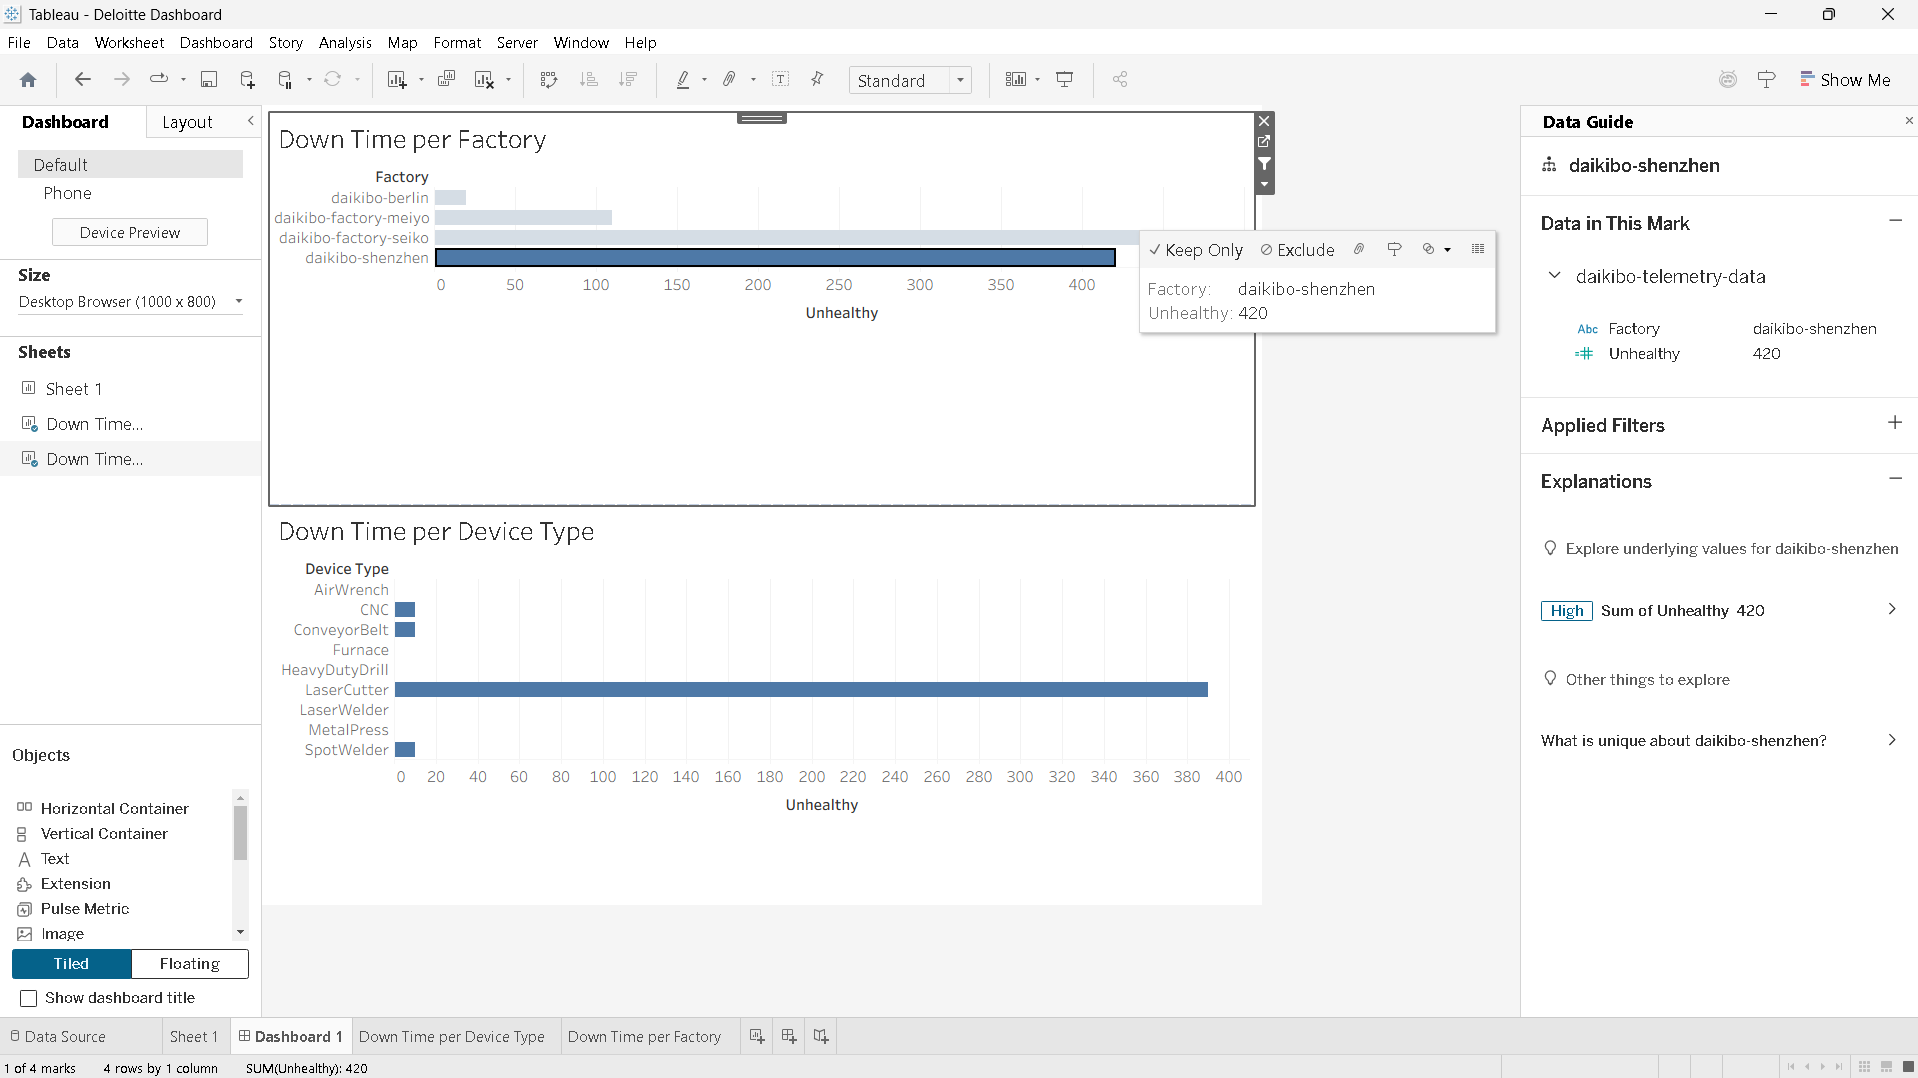

This screenshot's page, from the dashboard's own definition file:
{"tool":"tableau","page":{"name":"Dashboard 1","canvas":[1000,800],"ordinal":0},"visuals":[{"type":"worksheet","title":"Down Time per Factory","mark":"Automatic","rows":["factory"],"cols":["Calculation_1768032180019201"],"box":[8,8,984,392]},{"type":"worksheet","title":"Down Time per Device Type","mark":"Automatic","rows":["deviceType"],"cols":["Calculation_1768032180019201"],"box":[8,400,984,392]}]}

Visuals, with their boxes on the page's 1000x800 design canvas (x1, y1, x2, y2). These are canvas units, not pixel positions in the 1918x1078 screenshot, which may show the page scaled, cropped or inside an application window:
"Down Time per Factory" worksheet: crop(8, 8, 992, 400)
"Down Time per Device Type" worksheet: crop(8, 400, 992, 792)
